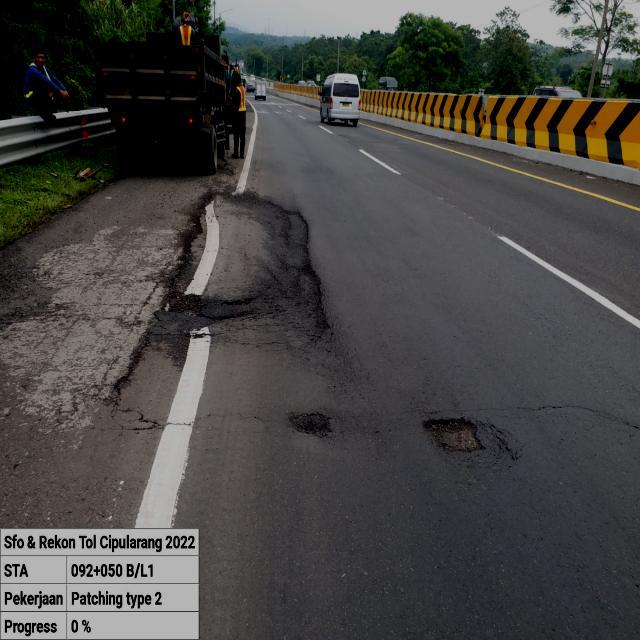Buraco: (157, 190, 335, 352), (418, 414, 490, 456), (284, 410, 336, 441)
